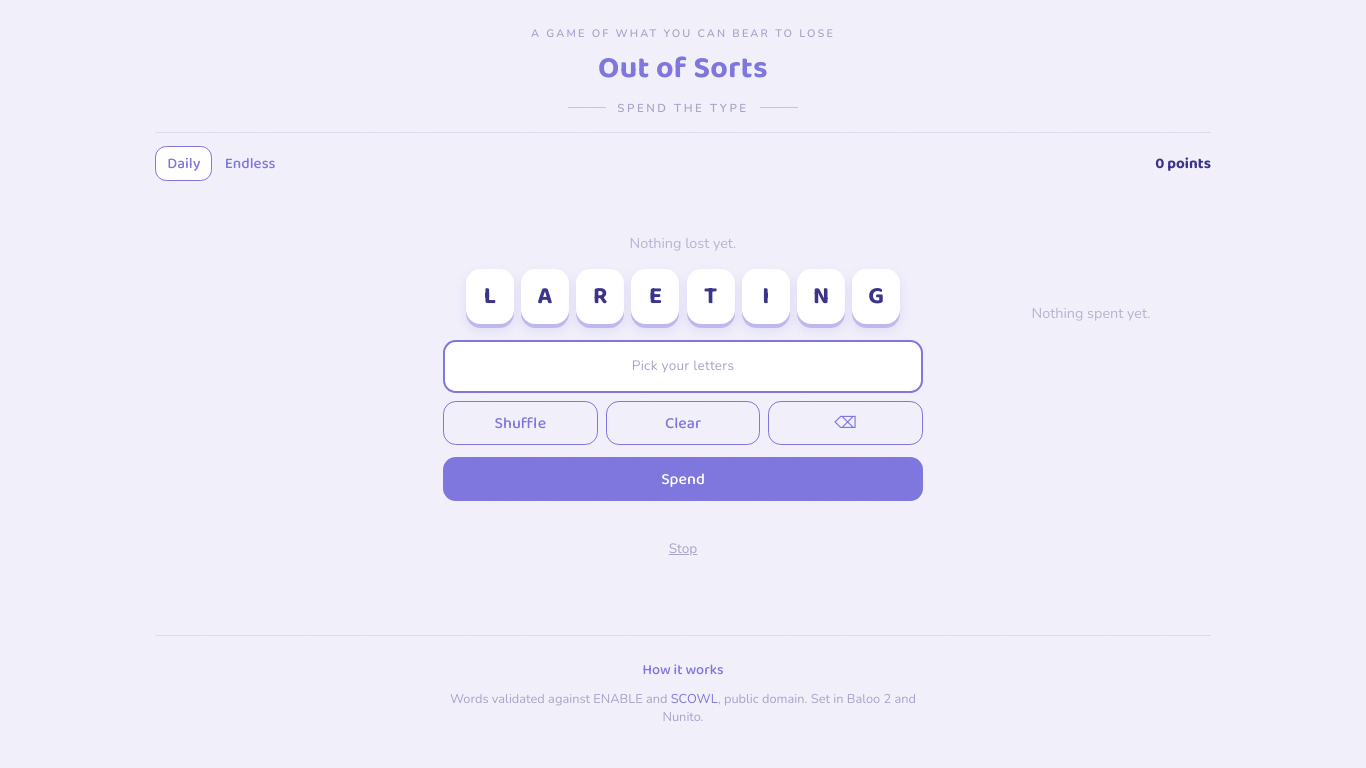
the cold tile preview › a cold tile is still tappable: tapping un-chills it and spends it
Expected: the element that starts with "Nothing lost yet." is shown, [443,233,1150,571]
Type keys "tea"
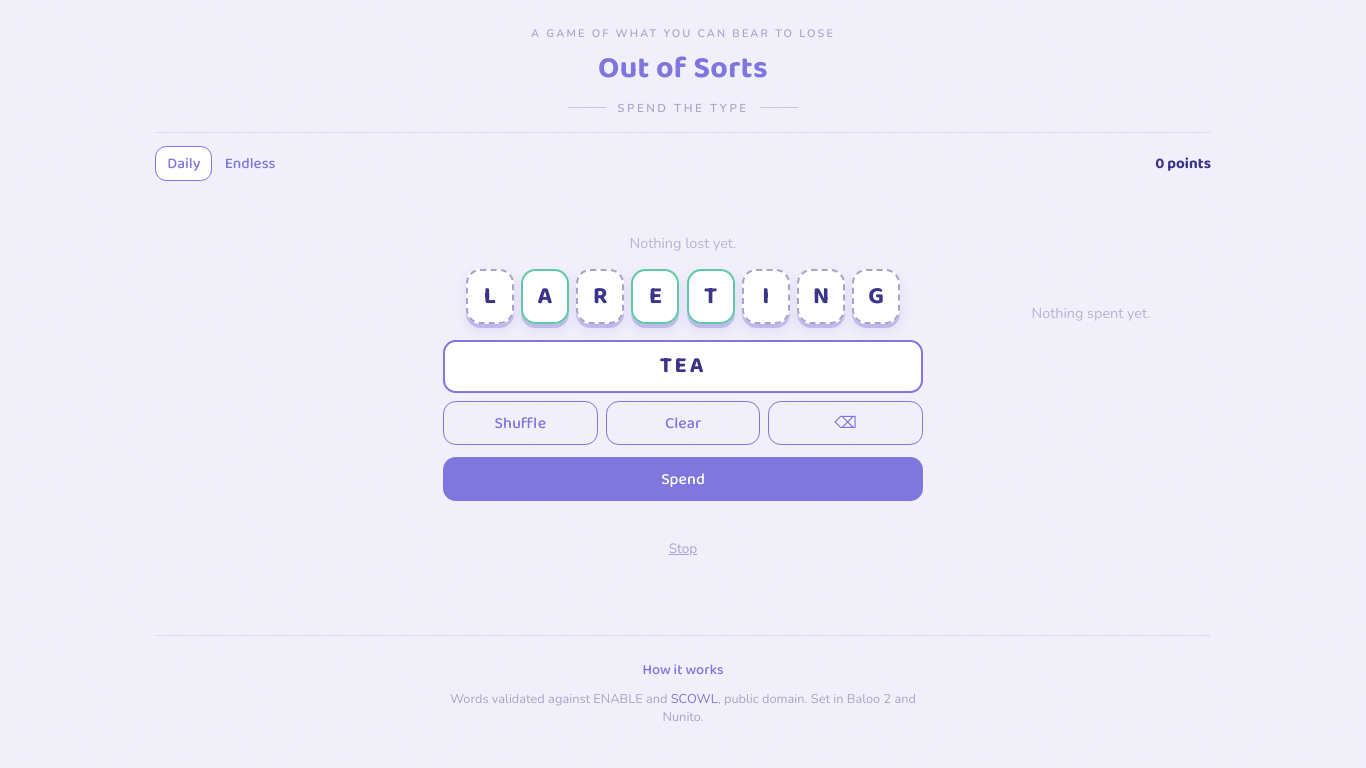
Click the button with test id "pool-tile" showing "L".
click(490, 297)  # box [466,269,514,324]
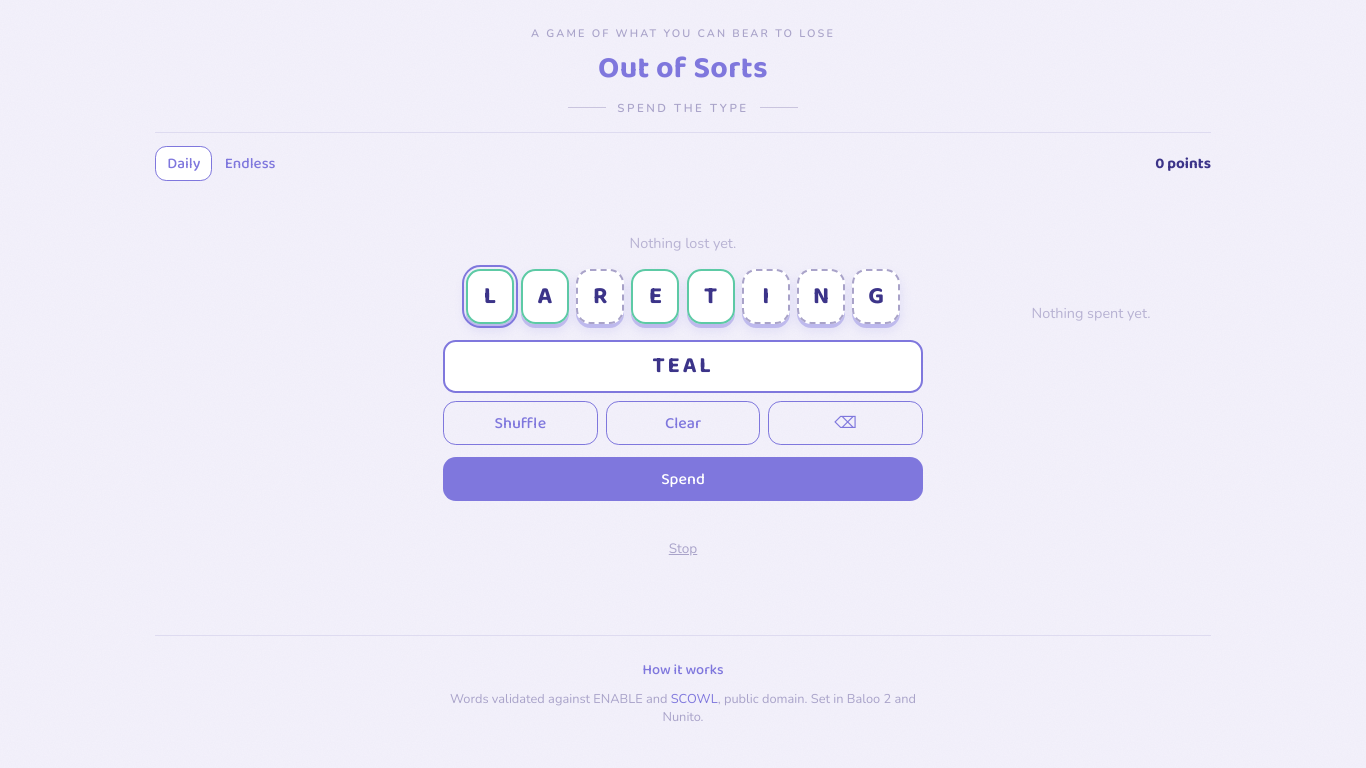
Now the message with test id "word-display" reads "TEAL", box [653,348,713,384]
